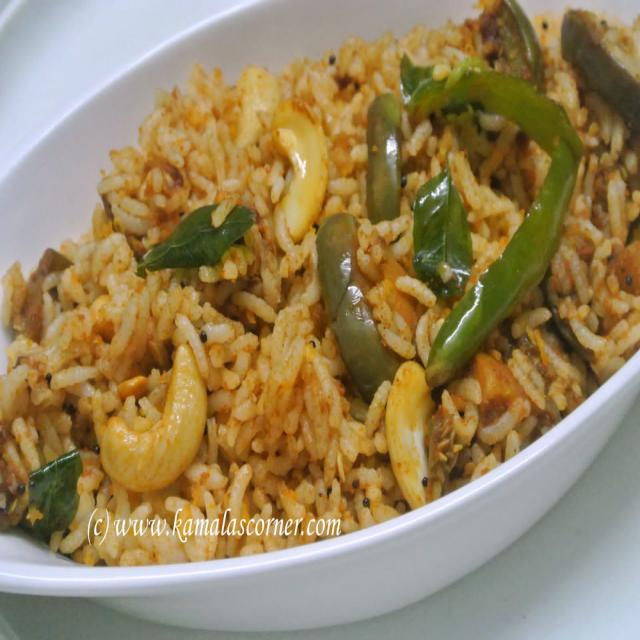vangi bath: (0, 4, 640, 580)
